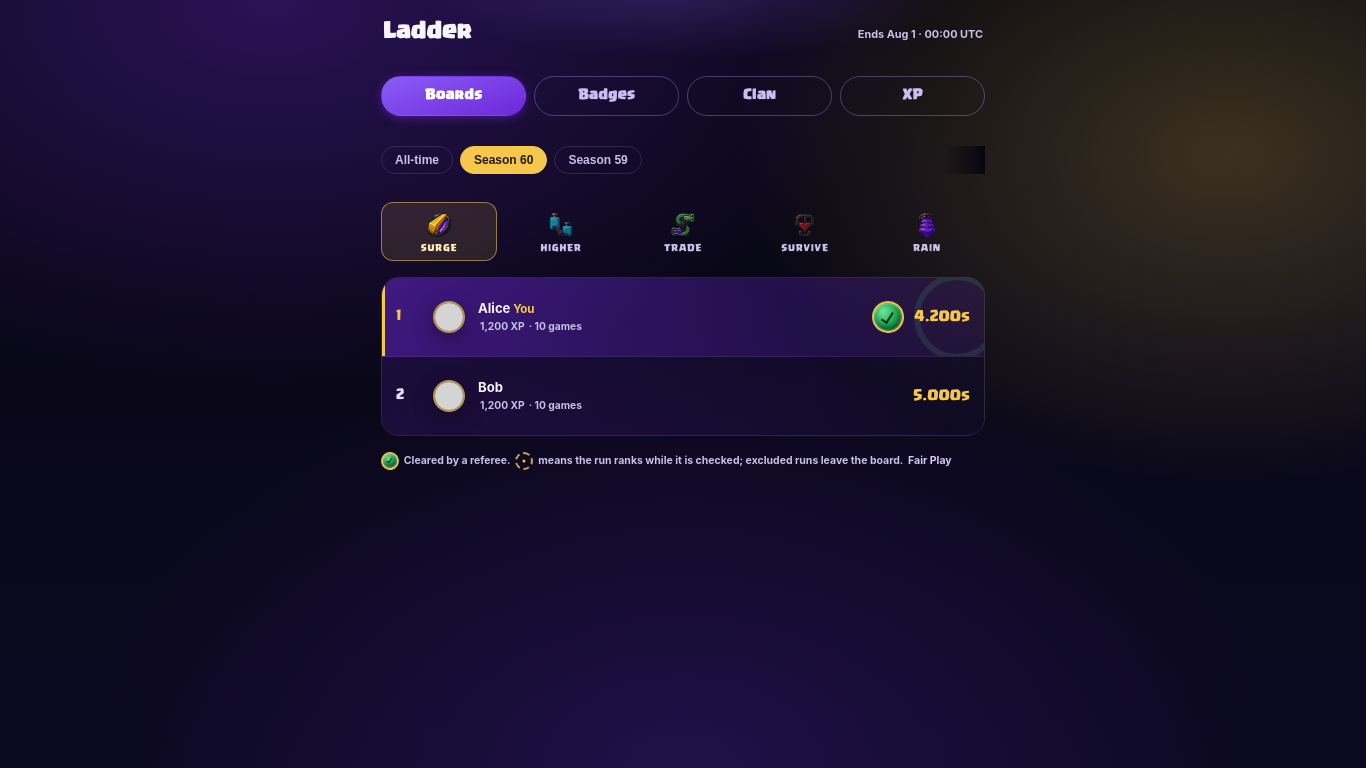
Scenario: Leaderboards › moves lifetime progression into a fourth XP scope with daily source totals
Click the tab "XP": click(912, 96) [840,76,985,116]
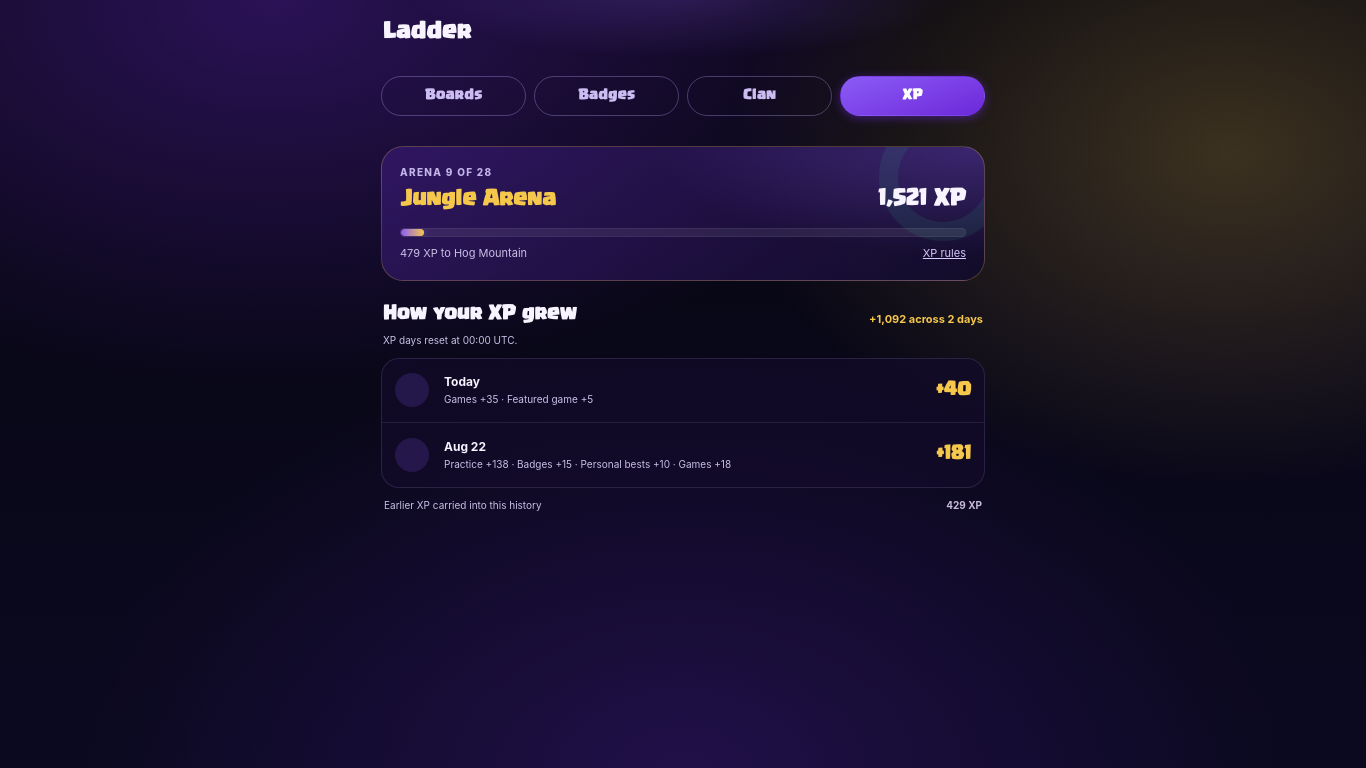
Check: the text with class "ed-ladder__clock" is gone
Check: the element with class "ed-board__mode-strip" is gone
Check: the footer with class "ed-board__key" is gone
